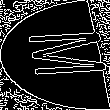M_E: (5, 29, 105, 81)
